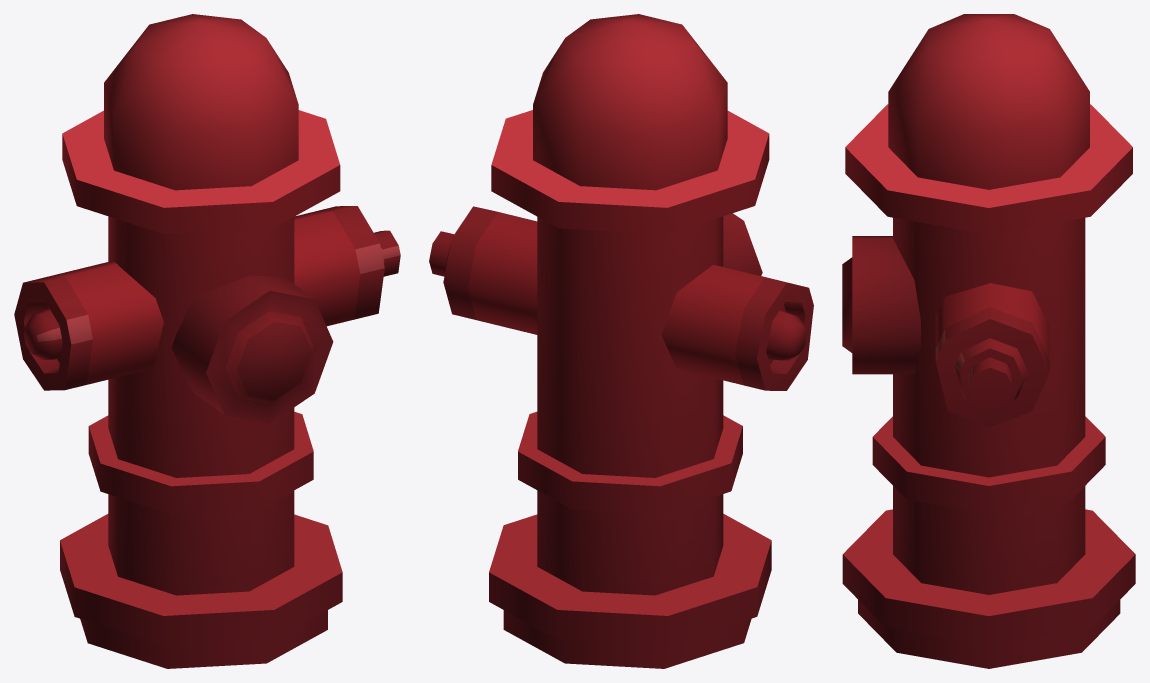
The model's file is FireHydrant.fbx.
The picture shows the model from 3 angles, left to right: view 1: azimuth 30°, elevation 25°; view 2: azimuth 150°, elevation 25°; view 3: azimuth 270°, elevation 25°; orthographic projection.
Parts seen in each view (by area): view 1: Cube.086; view 2: Cube.086; view 3: Cube.086.
Part boxes in pixels (x1,y1,x2,y2): Cube.086: (14, 14, 400, 668); Cube.086: (429, 14, 813, 668); Cube.086: (842, 14, 1135, 668).
Size of the model in its own units: 102 by 160 by 71.87.
